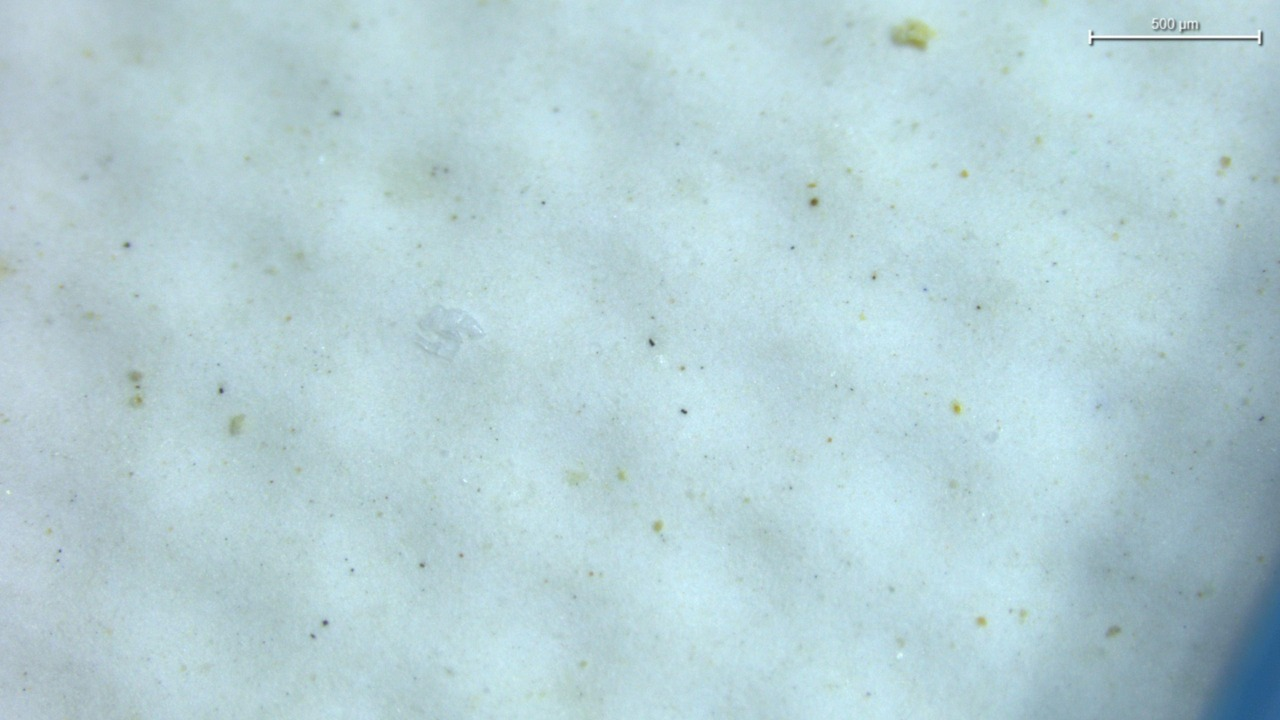microplastic_fragment: (417, 307, 485, 359)
